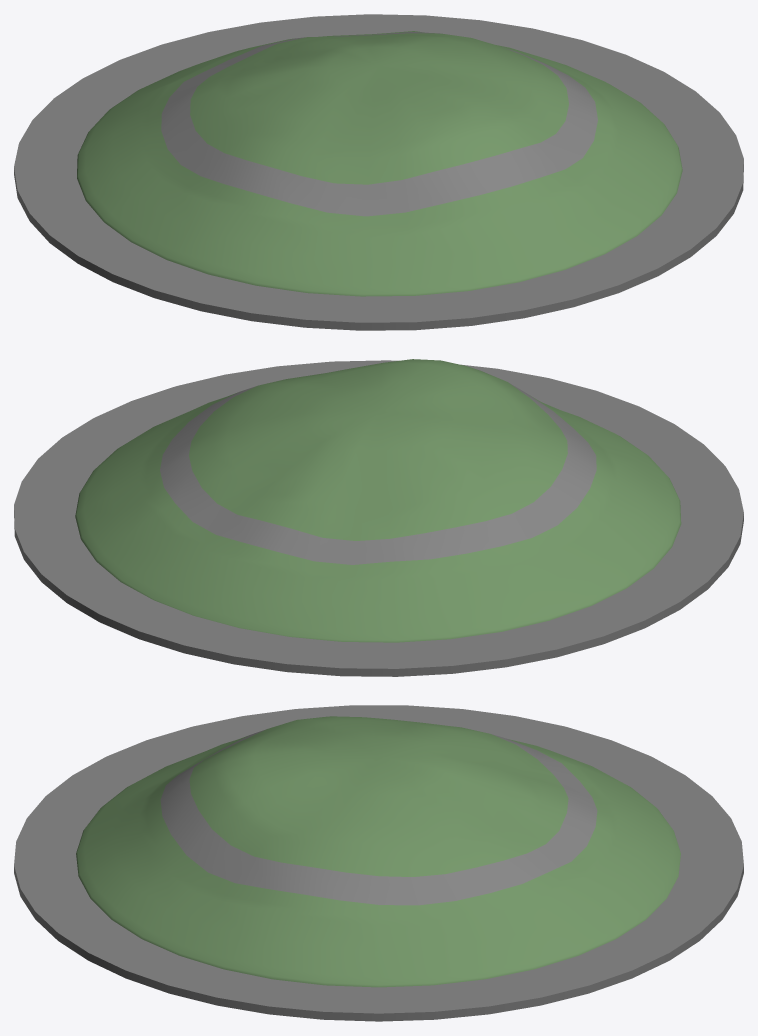
File: FeudHill2.fbx
3 views of the same model, one above another, from view 1: azimuth 30°, elevation 25°; view 2: azimuth 150°, elevation 25°; view 3: azimuth 270°, elevation 25° (orthographic).
Parts seen in each view (by area): view 1: pCylinder18, pCylinder19; view 2: pCylinder18, pCylinder19; view 3: pCylinder18, pCylinder19.
Boxes of the visible parts, bbox=[...] form: pCylinder18: bbox=[77, 31, 682, 296]; pCylinder19: bbox=[14, 14, 743, 330]; pCylinder18: bbox=[75, 359, 681, 642]; pCylinder19: bbox=[14, 360, 743, 676]; pCylinder18: bbox=[76, 716, 680, 987]; pCylinder19: bbox=[14, 705, 743, 1021].
Size of the model in its own units: 11.98 by 2.01 by 11.99.
